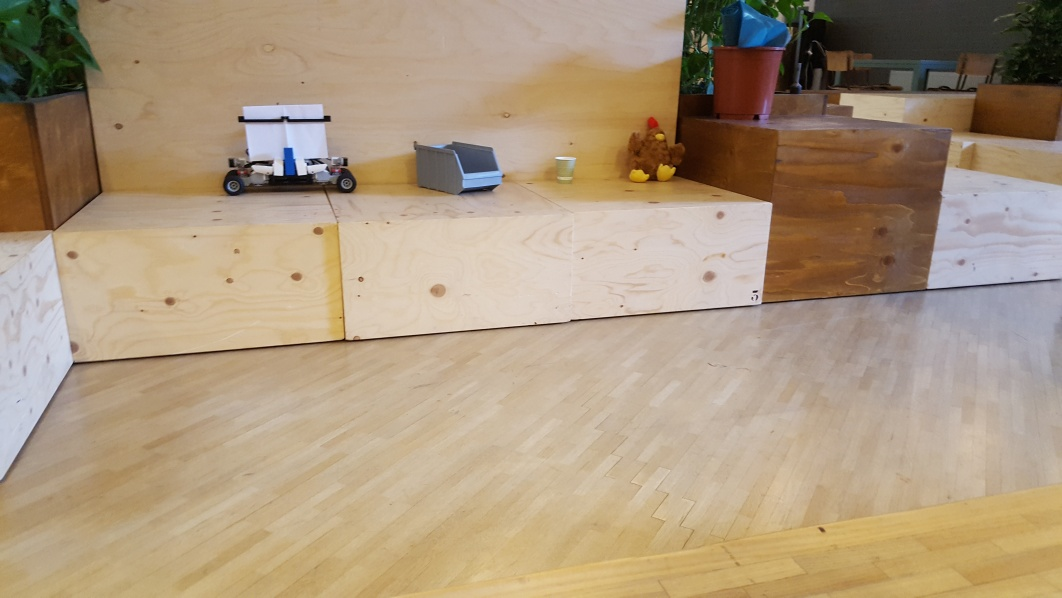beam: (283, 143, 298, 176)
chicken: (623, 117, 687, 182)
cup: (552, 153, 579, 185)
tray: (407, 139, 505, 196)
